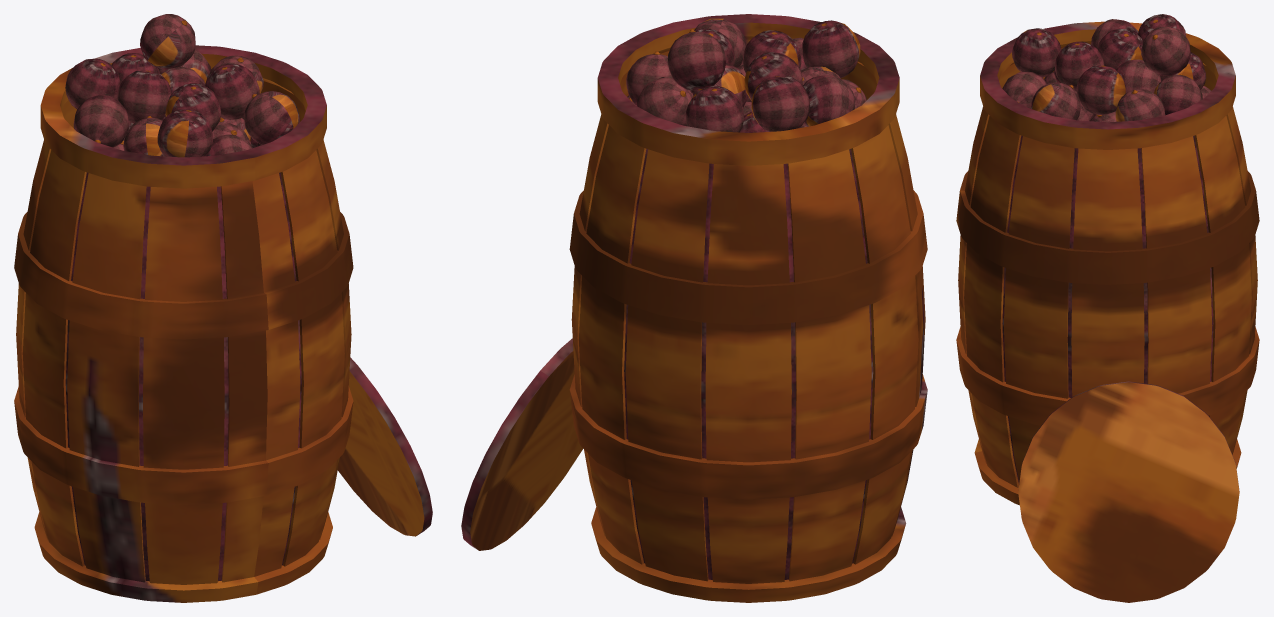
Rendered from fruit barrel_10.fbx.
3 views of the same model, side by side, from view 1: azimuth 30°, elevation 25°; view 2: azimuth 150°, elevation 25°; view 3: azimuth 270°, elevation 25° (orthographic). The views are drawn at different scales.
Visible parts, largest first — view 1: Circle.018, Circle.021, Plane.1521, Plane.1508, Plane.1507, Plane.1516, Plane.1519, Plane.1520, Plane.1523, Plane.1514, Plane.1505, Plane.1517 (+2 smaller); view 2: Circle.018, Circle.021, Plane.1521, Plane.1523, Plane.1507, Plane.1517, Plane.1516, Plane.1511, Plane.1519, Plane.1514, Plane.1518, Plane.1508 (+1 smaller); view 3: Circle.018, Circle.021, Plane.1521, Plane.1520, Plane.1507, Plane.1514, Plane.1508, Plane.1519, Plane.1511, Plane.1518, Plane.1515, Plane.1502 (+3 smaller).
Part boxes in pixels (x1,y1,x2,y2): Circle.018: (14,45,353,602); Circle.021: (338,357,432,536); Plane.1521: (140,14,195,69); Plane.1508: (244,90,299,144); Plane.1507: (157,109,212,157); Plane.1516: (73,95,128,147); Plane.1519: (117,70,171,123); Plane.1520: (205,63,259,119); Plane.1523: (65,58,120,109); Plane.1514: (165,83,221,131); Plane.1505: (123,116,163,156); Plane.1517: (111,53,160,83); Circle.018: (569,14,927,602); Circle.021: (461,338,583,550); Plane.1521: (668,29,725,90); Plane.1523: (751,76,810,131); Plane.1507: (802,20,860,77); Plane.1517: (685,86,743,132); Plane.1516: (803,74,854,126); Plane.1511: (637,77,693,126); Plane.1519: (744,52,802,100); Plane.1514: (743,30,801,73); Plane.1518: (626,51,672,105); Plane.1508: (694,18,745,67); Circle.018: (956,21,1259,505); Circle.021: (1018,381,1239,602); Plane.1521: (1141,26,1190,75); Plane.1520: (1076,65,1125,117); Plane.1507: (1012,28,1061,77); Plane.1514: (1055,41,1104,90); Plane.1508: (1031,82,1080,120); Plane.1519: (1097,28,1143,69); Plane.1511: (1154,74,1202,115); Plane.1518: (1115,89,1165,121); Plane.1515: (1116,59,1161,92); Plane.1502: (1002,71,1047,108).
Size of the model in its own units: 45.26 by 63.08 by 35.65.
